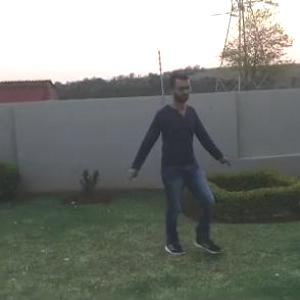land: (115, 68, 235, 268)
